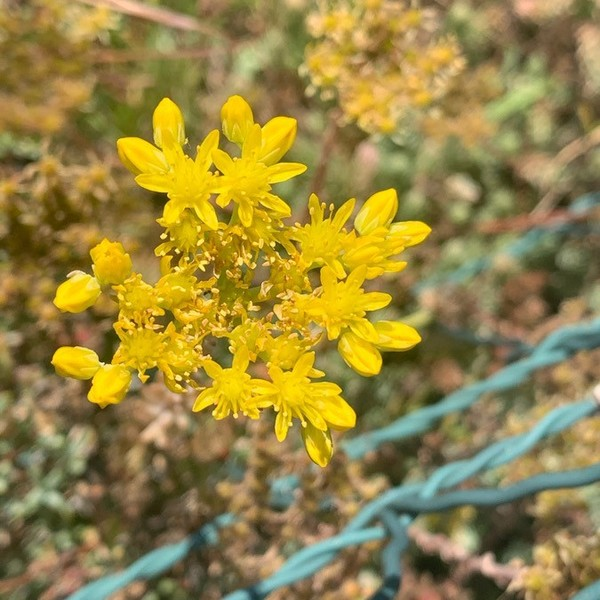obstacle: (77, 94, 399, 467)
